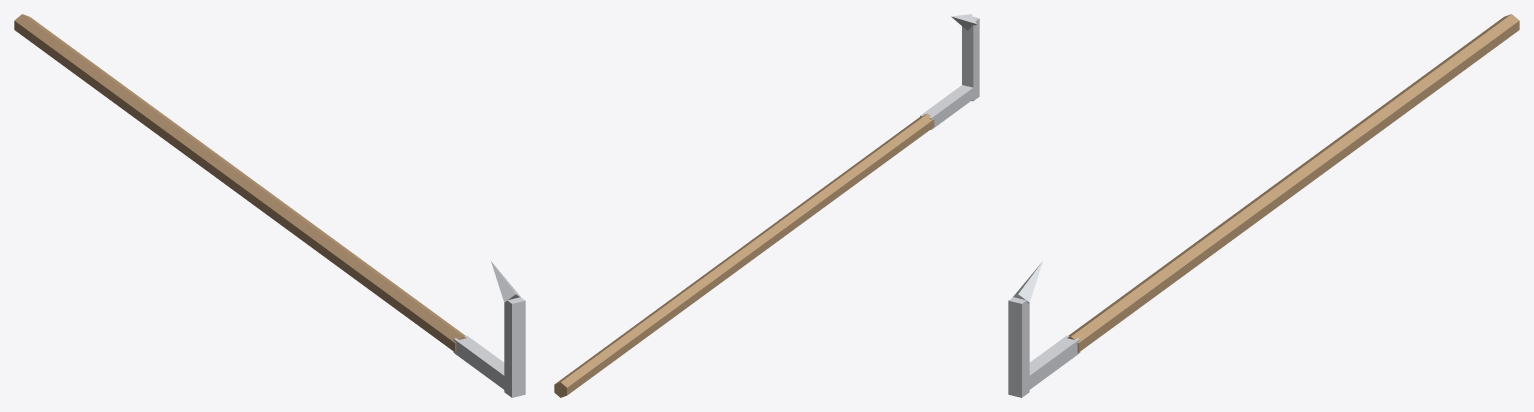
The model's file is BoatHook.fbx.
3 renders of one model, left to right at view 1: azimuth 30°, elevation 25°; view 2: azimuth 150°, elevation 25°; view 3: azimuth 330°, elevation 25°, orthographic. The views are drawn at different scales.
Visible parts, largest first — view 1: Body; view 2: Body; view 3: Body.
Boxes of the visible parts, x1=… form: Body: x1=14, y1=14, x2=525, y2=397; Body: x1=554, y1=14, x2=979, y2=397; Body: x1=1008, y1=14, x2=1519, y2=397.
Size of the model in its own units: 0.04 by 0.245 by 1.91.
